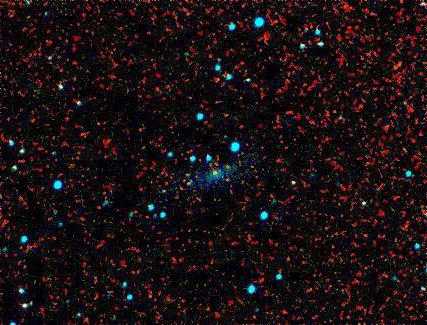star: (174, 160, 204, 190)
